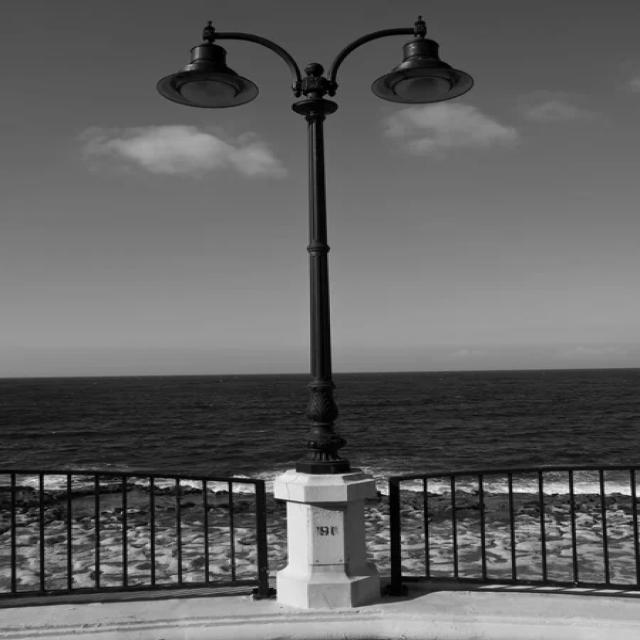Pole: (157, 19, 472, 610)
